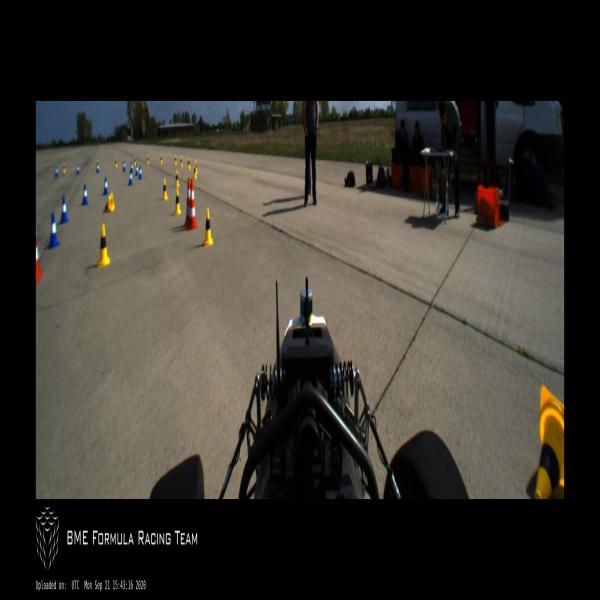blue_cone: (47, 214, 59, 248), (60, 198, 68, 224), (81, 184, 88, 205), (103, 177, 108, 195), (128, 170, 133, 186), (138, 165, 143, 179), (96, 161, 100, 173), (130, 161, 134, 172), (76, 164, 80, 174), (135, 164, 138, 176), (123, 160, 126, 172), (55, 166, 58, 177)
large_orange_cone: (187, 178, 198, 228), (184, 178, 192, 229), (36, 223, 42, 284)
yellow_cone: (534, 385, 564, 499), (96, 224, 110, 268), (203, 207, 213, 247), (103, 192, 115, 214), (174, 188, 181, 215), (162, 178, 168, 201), (174, 169, 179, 189), (194, 159, 198, 173), (187, 157, 191, 170), (62, 162, 66, 175), (180, 156, 183, 167), (174, 154, 177, 165), (115, 157, 118, 168), (194, 164, 196, 179), (134, 156, 136, 166), (147, 155, 149, 165), (160, 154, 162, 163)
